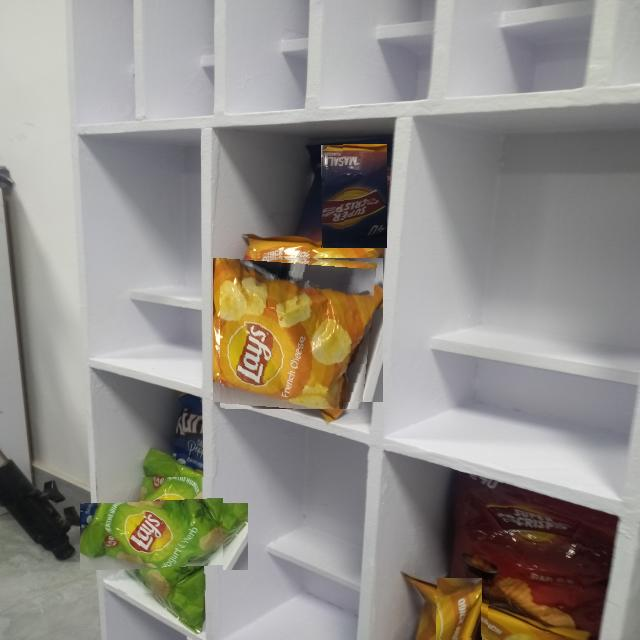Plastic: (220, 251, 377, 409), (105, 477, 224, 595), (474, 506, 582, 602), (320, 144, 387, 248), (428, 586, 489, 640)
